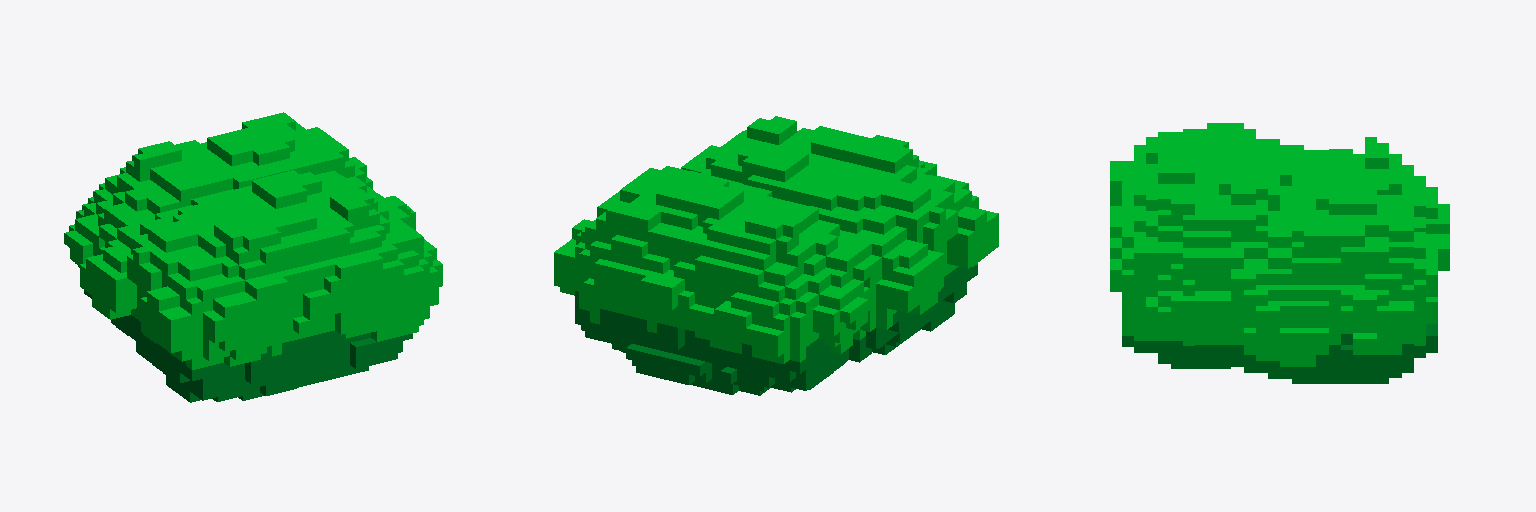
3 views of the same model, side by side, from view 1: azimuth 30°, elevation 25°; view 2: azimuth 150°, elevation 25°; view 3: azimuth 270°, elevation 25° (orthographic).
Visible parts, largest first — view 1: object 1; view 2: object 1; view 3: object 1.
Boxes of the visible parts, box(x1,y1,x2,y2) form: object 1: box(64, 112, 442, 402); object 1: box(554, 116, 998, 395); object 1: box(1110, 123, 1449, 383).
Bounding box in the file's own units: 9 × 4.5 × 8.4.
1 materials, 1 textured.